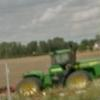Tractor: (16, 37, 100, 89)
